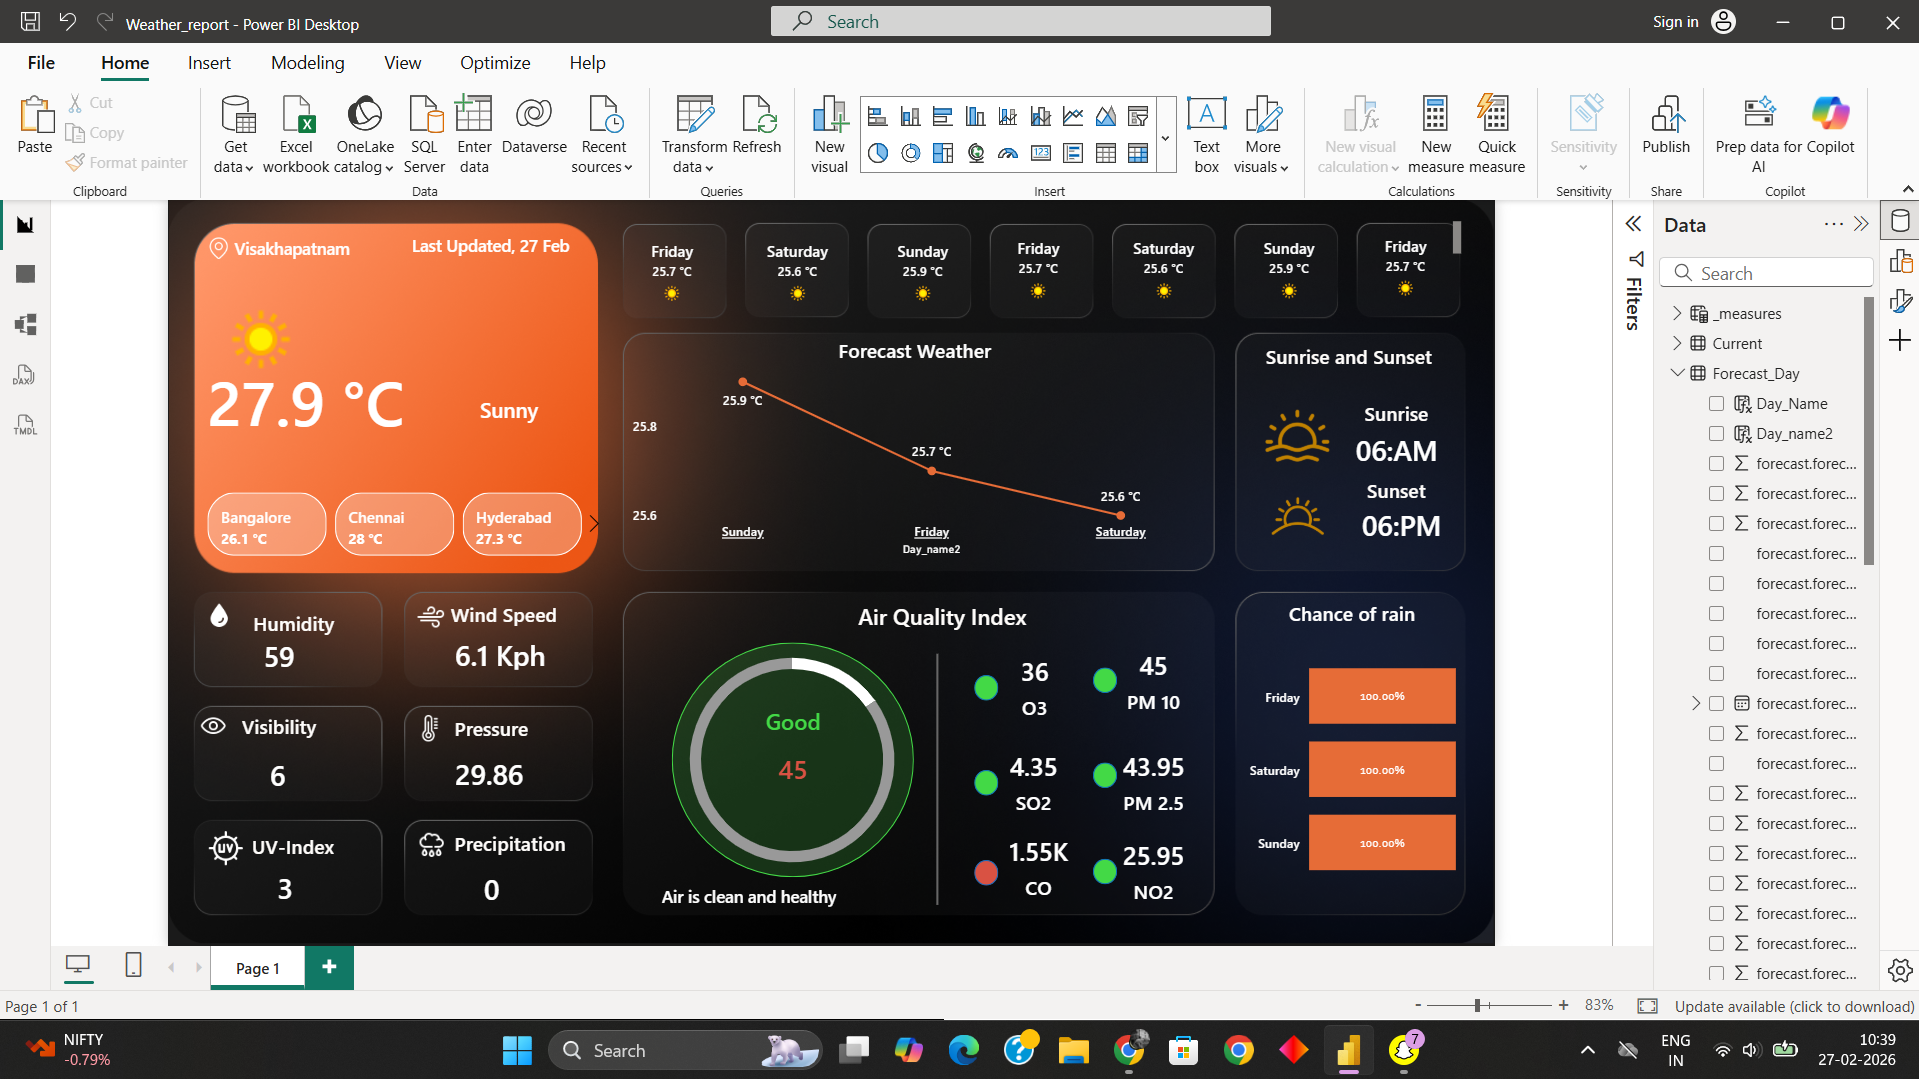

This screenshot's page, from the dashboard's own definition file:
{"tool":"powerbi","page":{"name":"Page 1","canvas":[1280,720],"ordinal":0},"visuals":[{"type":"shape","box":[486.2,427.1,233.7,226.5],"z":0},{"type":"advancedSlicerVisual","fields":{"Values":["location.location.name"]},"box":[13.3,277.2,413.8,71.6],"z":1000},{"type":"card","fields":{"Values":["_measures.current_temp_c"]},"box":[13.3,152.5,240.1,80.9],"z":2000},{"type":"card","fields":{"Values":["Min(Current.current.condition.text)"]},"box":[259.4,187,139.9,35],"z":3000},{"type":"card","fields":{"Values":["Min(Current.location.name)"]},"box":[53.1,31.4,133.9,36.2],"z":4000},{"type":"card","fields":{"Values":["_measures.Last_upated_Date_current"]},"box":[220.2,29.2,181.7,35.8],"z":5000},{"type":"cardVisual","fields":{"Data":["Min(Current.current.condition.icon)"]},"box":[22.5,67.6,137.9,104.8],"z":6000},{"type":"image","box":[31.8,31.8,34.5,30.5],"z":7000},{"type":"textbox","box":[65.9,490.5,92.9,35],"z":8000},{"type":"image","box":[24.1,488.6,38.8,37.5],"z":9000},{"type":"image","box":[32.6,382.4,33.8,36.2],"z":10000},{"type":"textbox","box":[1053.9,133.7,176.1,36.2],"z":11000},{"type":"image","box":[32.6,603.2,46.6,45.2],"z":12000},{"type":"textbox","box":[75.5,607.3,109.8,36.2],"z":13000},{"type":"image","box":[235.3,382.4,36.9,39.5],"z":14000},{"type":"textbox","box":[268.3,382.4,132.7,38.6],"z":15000},{"type":"image","box":[235.3,492.2,35.5,35.5],"z":16000},{"type":"textbox","box":[271.9,492.1,94.2,37.1],"z":17000},{"type":"image","box":[235.3,603.2,38.8,38.8],"z":18000},{"type":"textbox","box":[271.7,603,127.9,38.6],"z":19000},{"type":"card","fields":{"Values":["Sum(Current.current.humidity)"]},"box":[72.4,424.2,70,33.8],"z":20000},{"type":"card","fields":{"Values":["_measures.Wind_Speed"]},"box":[261.3,421.8,118.1,35.8],"z":21000},{"type":"card","fields":{"Values":["Sum(Current.current.vis_miles)"]},"box":[71.4,539.5,70,33.8],"z":22000},{"type":"card","fields":{"Values":["Sum(Current.current.pressure_in)"]},"box":[269.3,538.5,82.2,34.5],"z":23000},{"type":"card","fields":{"Values":["Sum(Current.current.air_quality.us-epa-index)"]},"box":[78.2,648.6,70,33.8],"z":24000},{"type":"card","fields":{"Values":["Sum(Current.current.precip_in)"]},"box":[277.2,648.6,70.3,34.5],"z":25000},{"type":"advancedSlicerVisual","fields":{"Values":["Forecast_Day.Day_name2"]},"box":[427.1,20.5,361.9,100.1],"z":26000},{"type":"lineChart","title":"Forecast Weather","fields":{"Category":["Forecast_Day.Day_Name"],"Y":["Sum(Forecast_Day.forecast.forecastday.day.avgtemp_c)"]},"box":[444,132.7,553.8,216],"z":28000},{"type":"textbox","box":[77.3,391.2,97.7,36.2],"z":29000},{"type":"card","fields":{"Values":["Min(Forecast_Day.Sunrise_Date)"]},"box":[1123.4,221.7,125.5,41],"z":30000},{"type":"card","fields":{"Values":["Min(Forecast_Day.Sunset_Date)"]},"box":[1128.5,294.9,125.5,41],"z":31000},{"type":"textbox","box":[1149.7,188.4,76,36.2],"z":32000},{"type":"textbox","box":[1152.6,262.5,76,36.2],"z":33000},{"type":"image","box":[1054.4,191.8,71.4,71.4],"z":34000},{"type":"image","box":[1047.2,266.6,86.9,77.2],"z":35000},{"type":"hundredPercentStackedBarChart","title":"Chance of rain","fields":{"Y":["Current.Left_value_Rain - 100","CountNonNull(Forecast_Day.Day_Name)"],"Category":["Forecast_Day.Day_Name"]},"box":[1037.3,386.7,210.6,297.2],"z":36000},{"type":"textbox","box":[660.8,382.3,174.6,39],"z":37000},{"type":"card","fields":{"Values":["Sum(Current.current.air_quality.pm10)"]},"box":[904.9,421.6,93.1,83.5],"z":38000},{"type":"card","fields":{"Values":["Sum(Current.current.air_quality.o3)"]},"box":[789.9,427.1,93.1,83.5],"z":39000},{"type":"card","fields":{"Values":["Sum(Current.current.air_quality.so2)"]},"box":[789.2,519.3,93.3,83.2],"z":40000},{"type":"card","fields":{"Values":["Sum(Current.current.air_quality.co)"]},"box":[798.1,603.7,83.5,79.4],"z":41000},{"type":"card","fields":{"Values":["Sum(Current.current.air_quality.pm2_5)"]},"box":[904.6,519.3,93.3,83.2],"z":42000},{"type":"card","fields":{"Values":["Sum(Current.current.air_quality.no2)"]},"box":[904.6,604.2,93.3,83.2],"z":43000},{"type":"shape","box":[892.6,451.8,23.3,24.6],"z":44000},{"type":"shape","box":[722.7,437.9,39.8,242.5],"z":45000},{"type":"shape","box":[892.6,543.5,23.3,24.6],"z":46000},{"type":"shape","box":[892.6,635.2,23.3,24.6],"z":47000},{"type":"shape","box":[777.6,458.6,23.3,24.6],"z":48000},{"type":"shape","box":[777.6,550.3,23.3,24.6],"z":49000},{"type":"shape","box":[777.6,636.6,23.3,24.6],"z":50000},{"type":"donutChart","fields":{"Y":["Sum(Current.current.air_quality.pm10)","_measures.Left_value_PM10"]},"box":[474.7,409.7,256.8,261.1],"z":51000},{"type":"card","fields":{"Values":["Sum(Current.current.air_quality.pm10)"]},"box":[535.3,489.1,135.6,93.8],"z":52000},{"type":"cardVisual","fields":{"Data":["_measures.AQI Suggestion"]},"box":[459.7,635.8,283.5,55.5],"z":53000},{"type":"advancedSlicerVisual","fields":{"Values":["Forecast_Day.Day_name2"]},"box":[780.6,18.1,361.9,100.1],"z":53001},{"type":"advancedSlicerVisual","fields":{"Values":["Forecast_Day.Day_name2"]},"box":[1149.7,15.7,103.8,100.1],"z":53002}]}

Visuals, with their boxes on the page's 1280x720 design canvas (x1, y1, x2, y2). These are canvas units, not pixel positions in the 1919x1079 screenshot, which may show the page scaled, cropped or inside an application window:
shape: left=486, top=427, right=720, bottom=654
advancedSlicerVisual - location.location.name: left=13, top=277, right=427, bottom=349
card - _measures.current_temp_c: left=13, top=152, right=253, bottom=233
card - Min(Current.current.condition.text): left=259, top=187, right=399, bottom=222
card - Min(Current.location.name): left=53, top=31, right=187, bottom=68
card - _measures.Last_upated_Date_current: left=220, top=29, right=402, bottom=65
cardVisual - Min(Current.current.condition.icon): left=22, top=68, right=160, bottom=172
image: left=32, top=32, right=66, bottom=62
textbox: left=66, top=490, right=159, bottom=526
image: left=24, top=489, right=63, bottom=526
image: left=33, top=382, right=66, bottom=419
textbox: left=1054, top=134, right=1230, bottom=170
image: left=33, top=603, right=79, bottom=648
textbox: left=76, top=607, right=185, bottom=644
image: left=235, top=382, right=272, bottom=422
textbox: left=268, top=382, right=401, bottom=421
image: left=235, top=492, right=271, bottom=528
textbox: left=272, top=492, right=366, bottom=529
image: left=235, top=603, right=274, bottom=642
textbox: left=272, top=603, right=400, bottom=642
card - Sum(Current.current.humidity): left=72, top=424, right=142, bottom=458
card - _measures.Wind_Speed: left=261, top=422, right=379, bottom=458
card - Sum(Current.current.vis_miles): left=71, top=540, right=141, bottom=573
card - Sum(Current.current.pressure_in): left=269, top=538, right=352, bottom=573
card - Sum(Current.current.air_quality.us-epa-index): left=78, top=649, right=148, bottom=682
card - Sum(Current.current.precip_in): left=277, top=649, right=348, bottom=683
advancedSlicerVisual - Forecast_Day.Day_name2: left=427, top=20, right=789, bottom=121
"Forecast Weather" lineChart: left=444, top=133, right=998, bottom=349
textbox: left=77, top=391, right=175, bottom=427
card - Min(Forecast_Day.Sunrise_Date): left=1123, top=222, right=1249, bottom=263
card - Min(Forecast_Day.Sunset_Date): left=1128, top=295, right=1254, bottom=336
textbox: left=1150, top=188, right=1226, bottom=225
textbox: left=1153, top=262, right=1229, bottom=299
image: left=1054, top=192, right=1126, bottom=263
image: left=1047, top=267, right=1134, bottom=344
"Chance of rain" hundredPercentStackedBarChart: left=1037, top=387, right=1248, bottom=684
textbox: left=661, top=382, right=835, bottom=421
card - Sum(Current.current.air_quality.pm10): left=905, top=422, right=998, bottom=505
card - Sum(Current.current.air_quality.o3): left=790, top=427, right=883, bottom=511
card - Sum(Current.current.air_quality.so2): left=789, top=519, right=882, bottom=602
card - Sum(Current.current.air_quality.co): left=798, top=604, right=882, bottom=683
card - Sum(Current.current.air_quality.pm2_5): left=905, top=519, right=998, bottom=602
card - Sum(Current.current.air_quality.no2): left=905, top=604, right=998, bottom=687
shape: left=893, top=452, right=916, bottom=476
shape: left=723, top=438, right=762, bottom=680
shape: left=893, top=544, right=916, bottom=568
shape: left=893, top=635, right=916, bottom=660
shape: left=778, top=459, right=801, bottom=483
shape: left=778, top=550, right=801, bottom=575
shape: left=778, top=637, right=801, bottom=661
donutChart - Sum(Current.current.air_quality.pm10) x _measures.Left_value_PM10: left=475, top=410, right=732, bottom=671
card - Sum(Current.current.air_quality.pm10): left=535, top=489, right=671, bottom=583
cardVisual - _measures.AQI Suggestion: left=460, top=636, right=743, bottom=691
advancedSlicerVisual - Forecast_Day.Day_name2: left=781, top=18, right=1142, bottom=118
advancedSlicerVisual - Forecast_Day.Day_name2: left=1150, top=16, right=1254, bottom=116
